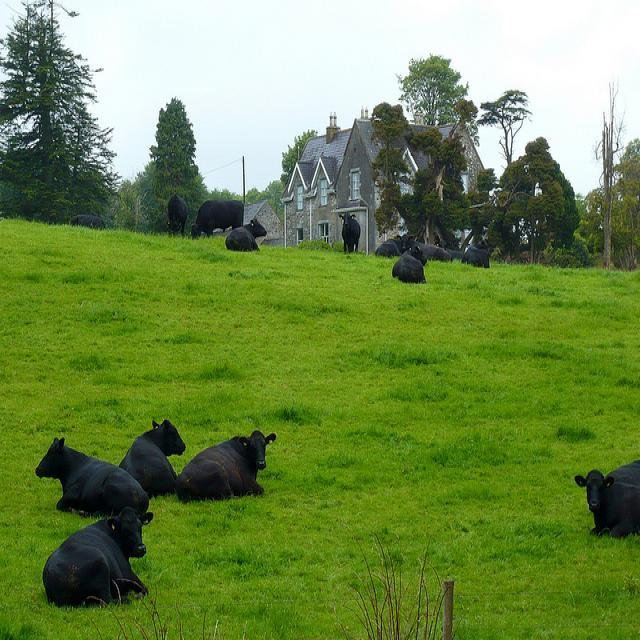cow: (40, 504, 153, 607), (33, 435, 148, 516), (180, 428, 274, 505), (116, 416, 186, 499), (573, 468, 637, 536), (188, 197, 243, 239), (224, 214, 266, 250), (398, 232, 449, 260), (390, 244, 425, 281), (166, 191, 187, 237), (337, 211, 359, 252), (459, 243, 488, 267), (374, 237, 401, 255)
